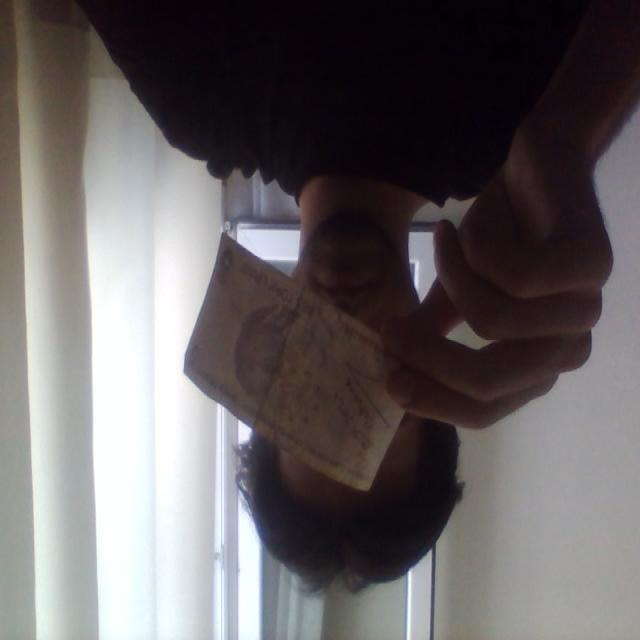5-TL: (183, 233, 413, 493)
